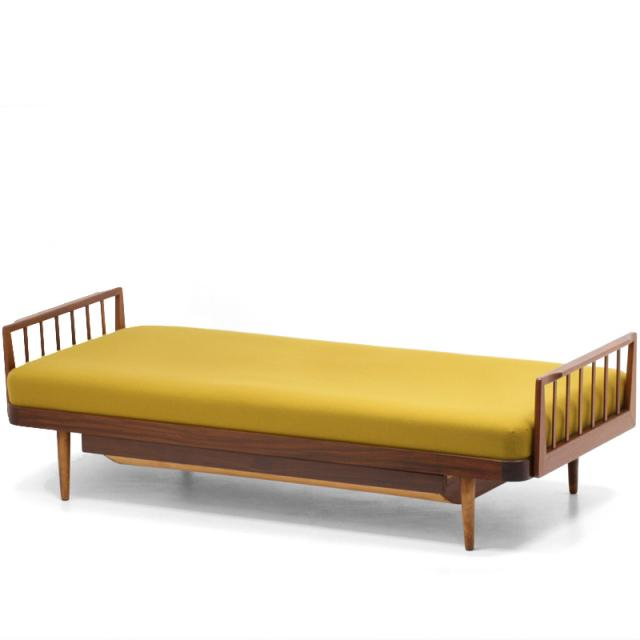bed vintage: (0, 285, 640, 569)
